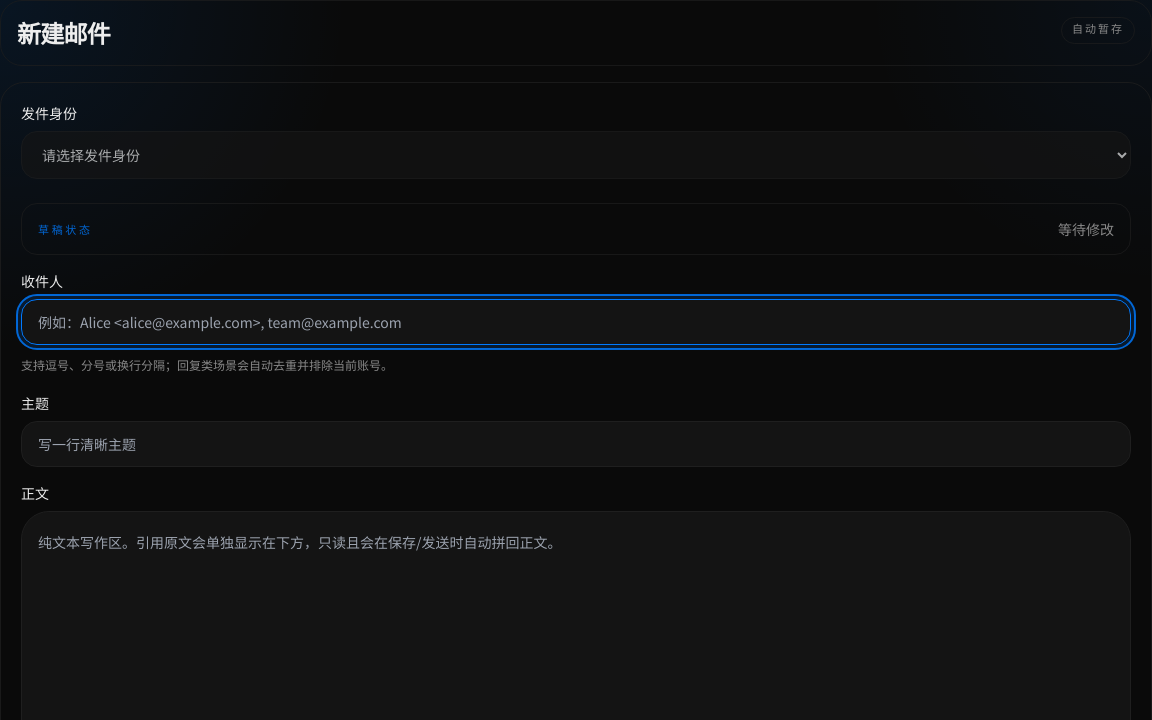
compose-core › keeps focus on subject after recipient blur autosaves a fresh compose
Type "alice@example.com" into the field with test id "compose-to" at (576, 322), box [21,299,1131,345]
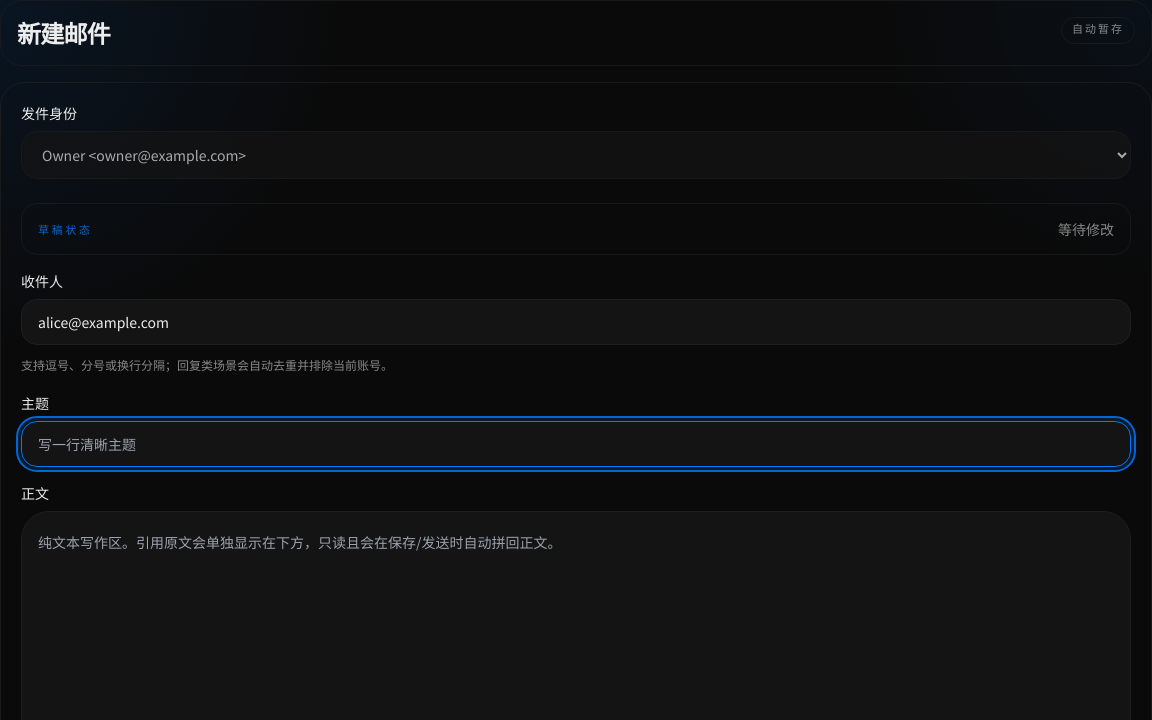
Leave the field with test id "compose-to", box [21,299,1131,345]
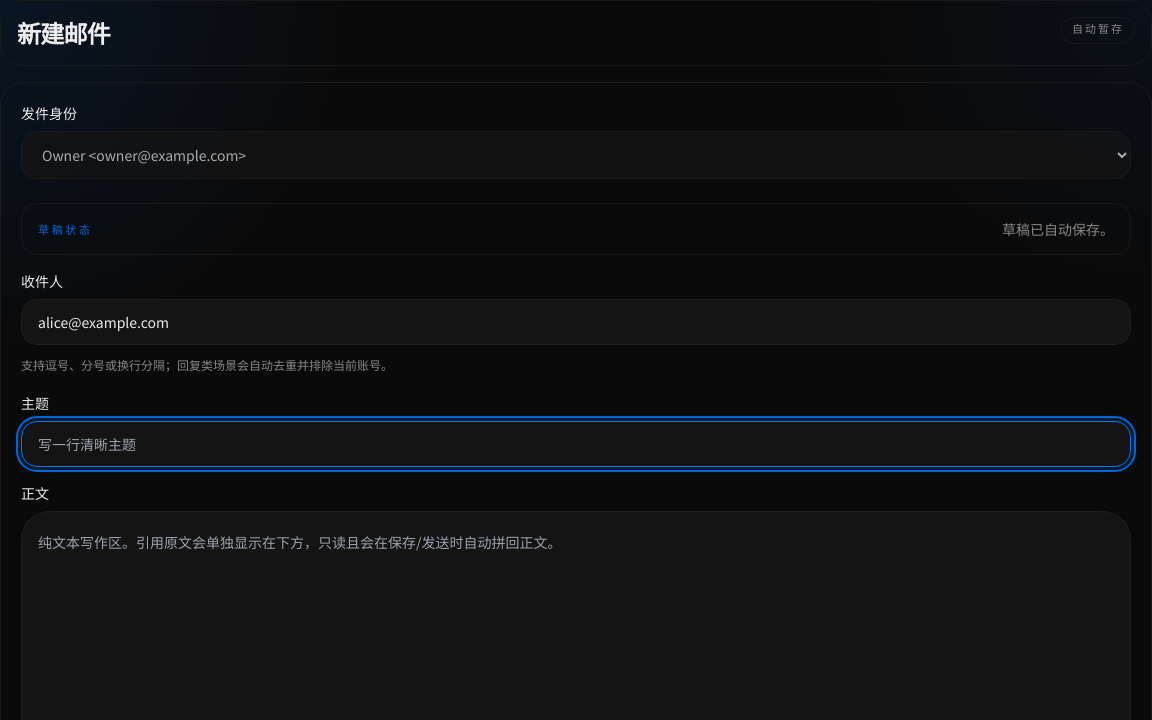
expect the text with test id "draft-status" reads "草稿已自动保存。": met, box [1002,219,1114,239]
